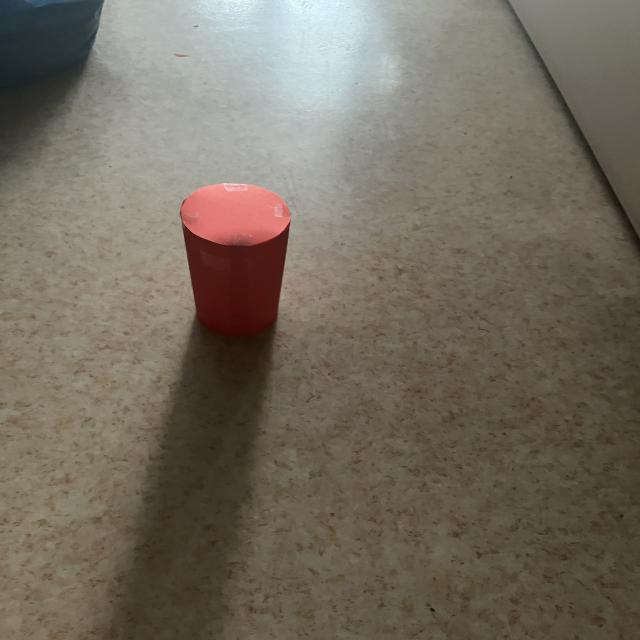przeszkoda: (180, 183, 290, 335)
